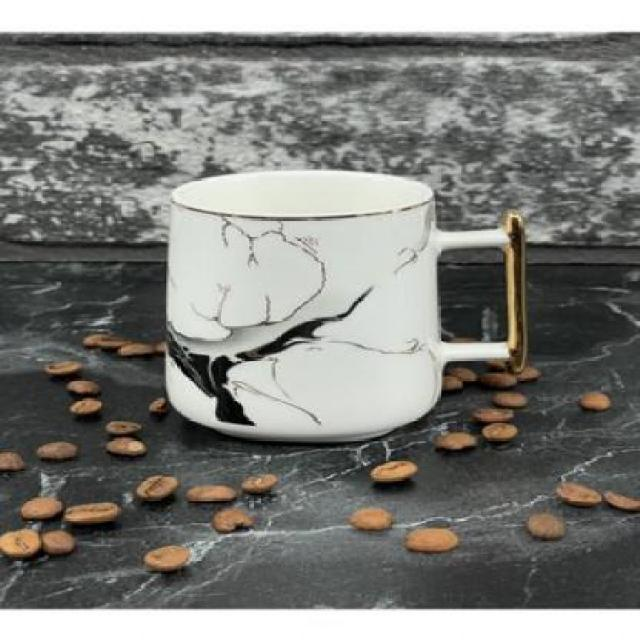taza: (165, 166, 532, 444)
